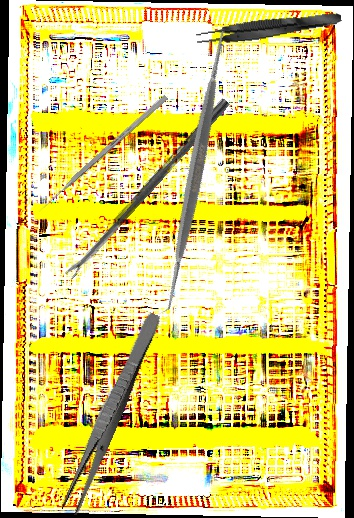Dressing Forceps: (58, 309, 164, 517)
Pusher: (36, 94, 169, 214)
Spatula Surgical: (49, 23, 342, 318)
Surgical Spoon: (63, 97, 231, 280)
Tissue Forceps: (195, 7, 343, 50)
